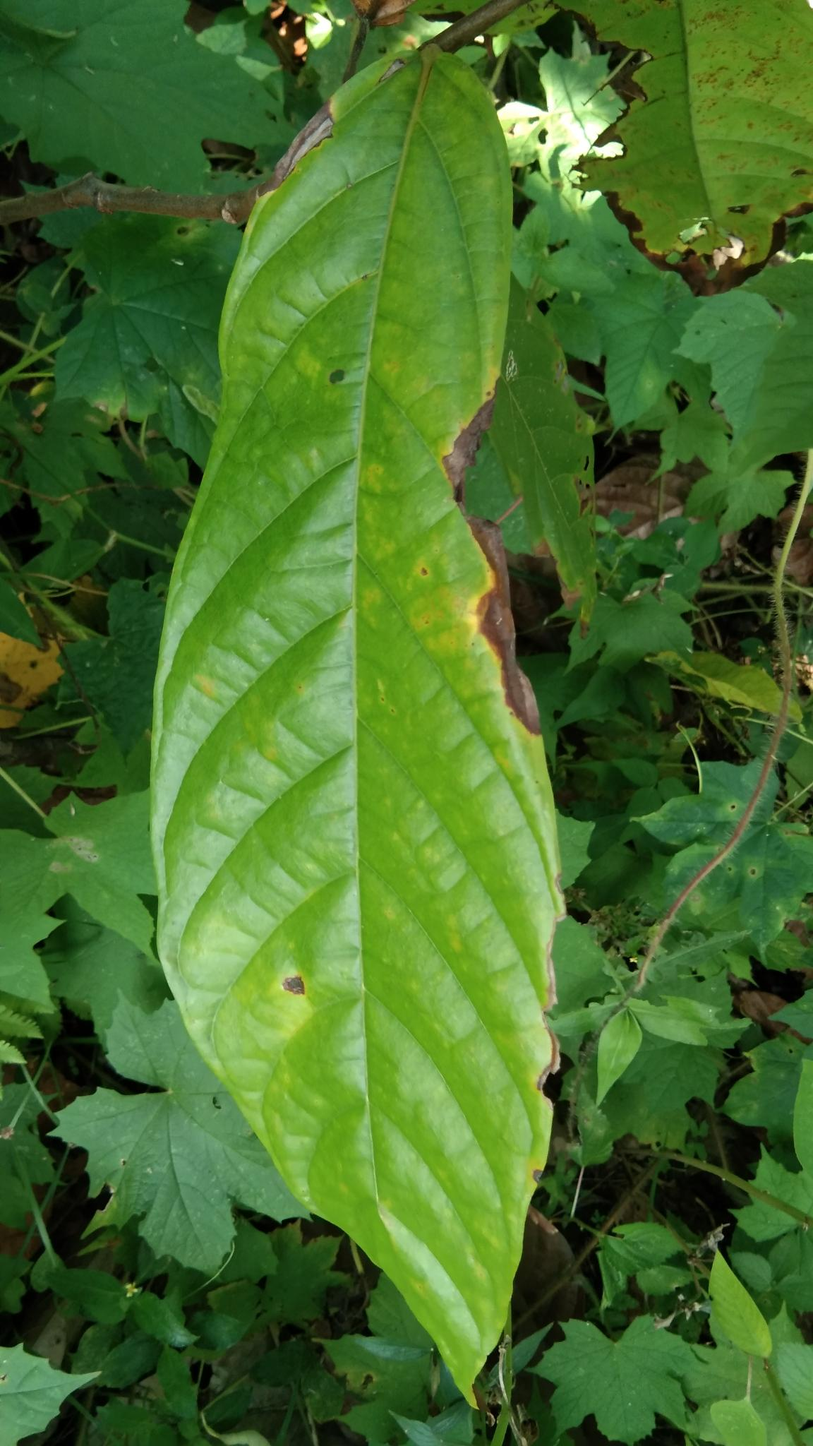Fosforo: (148, 36, 567, 1414)
